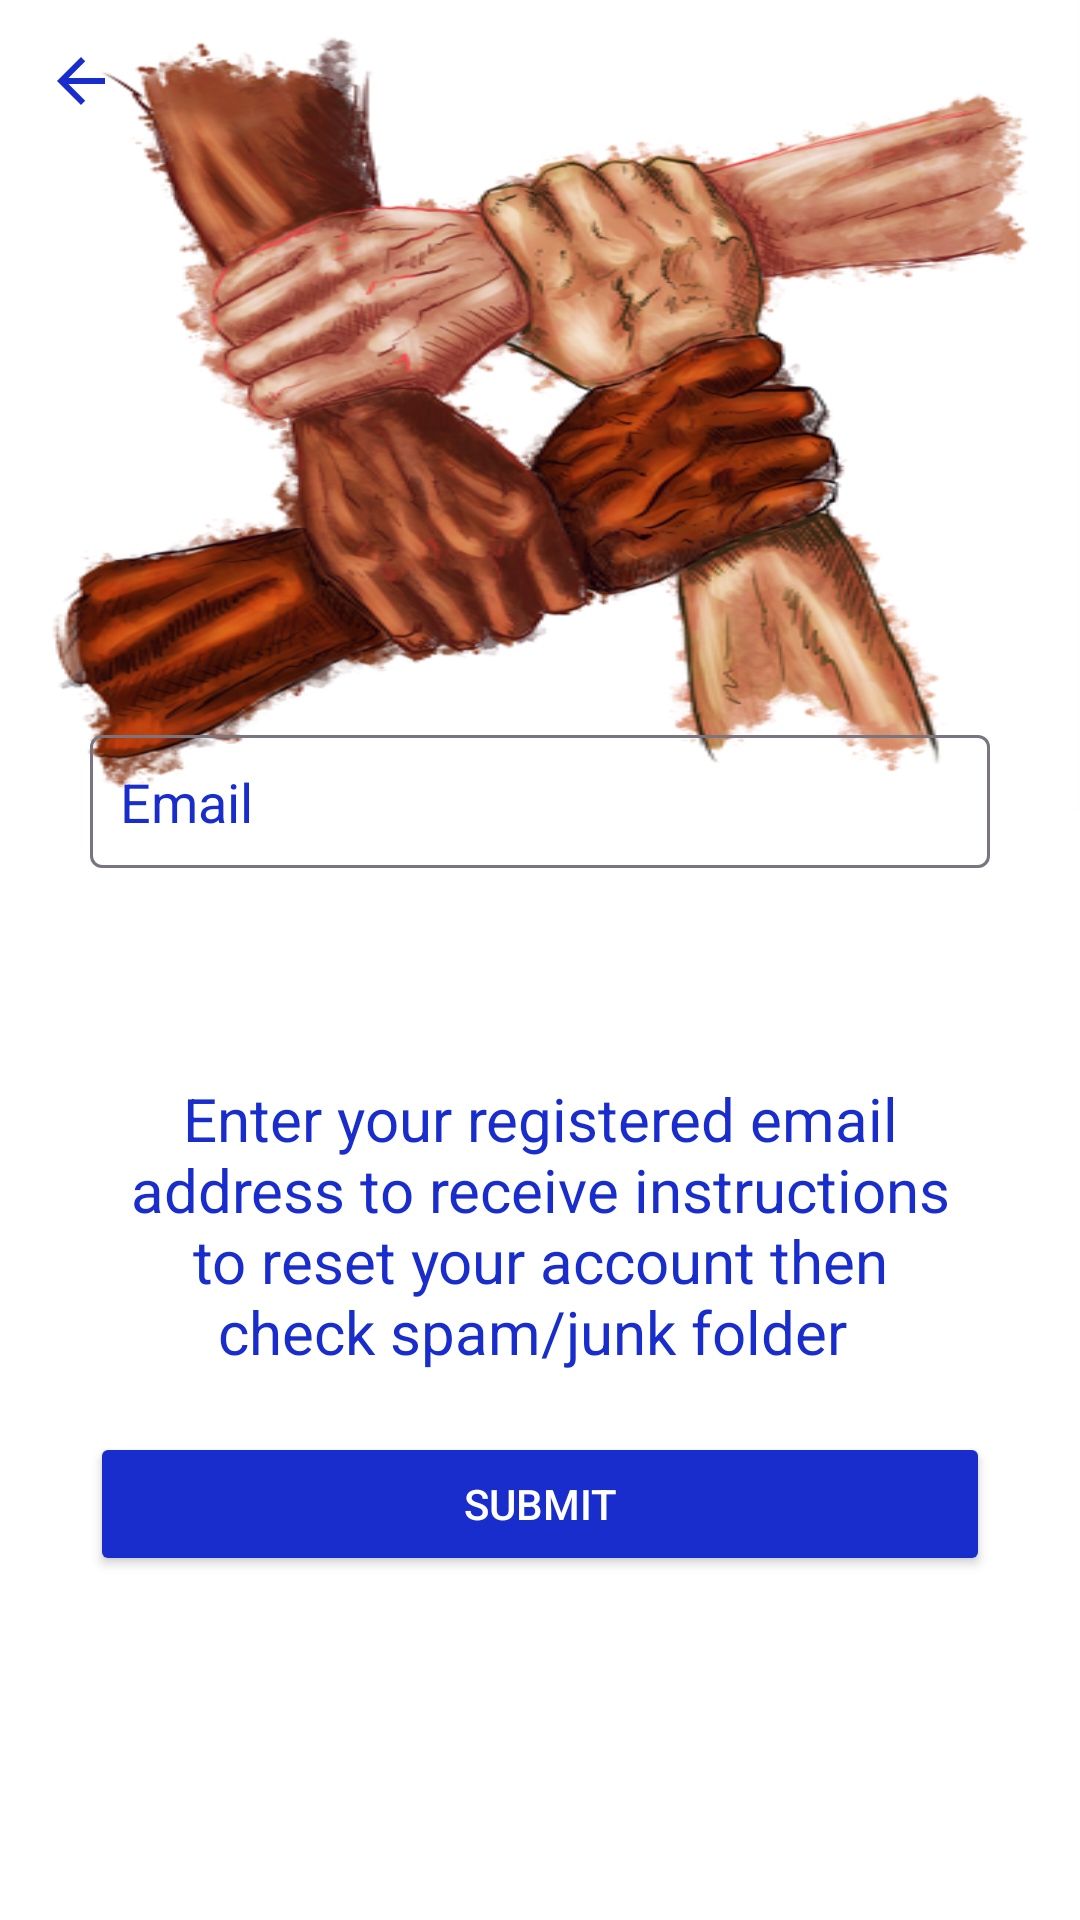

Screen size 1080px×1920px. Icon name, then its center in pixels as point (x, y):
arrow back: point (81, 81)
